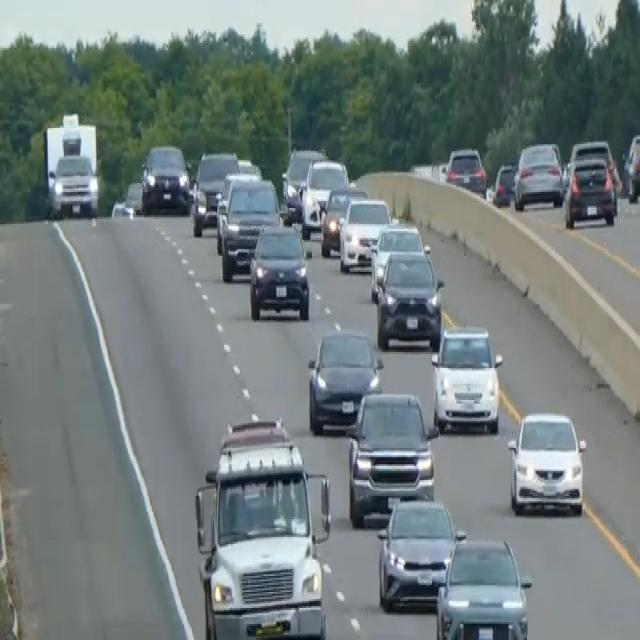car: (346, 388, 438, 524), (376, 494, 465, 612), (434, 535, 532, 638), (507, 407, 587, 516), (306, 324, 383, 434), (430, 322, 503, 434), (375, 247, 445, 350), (216, 171, 281, 281), (248, 220, 310, 320), (368, 220, 429, 302), (190, 148, 238, 235), (338, 196, 391, 272), (300, 156, 349, 238), (564, 153, 617, 227), (319, 181, 367, 256), (513, 140, 564, 210), (141, 142, 190, 214), (280, 146, 325, 220), (444, 144, 487, 197), (567, 137, 617, 181), (623, 130, 639, 202), (492, 160, 517, 206), (124, 178, 144, 213)
lorry: (193, 412, 332, 638)
truck: (42, 110, 100, 219)
